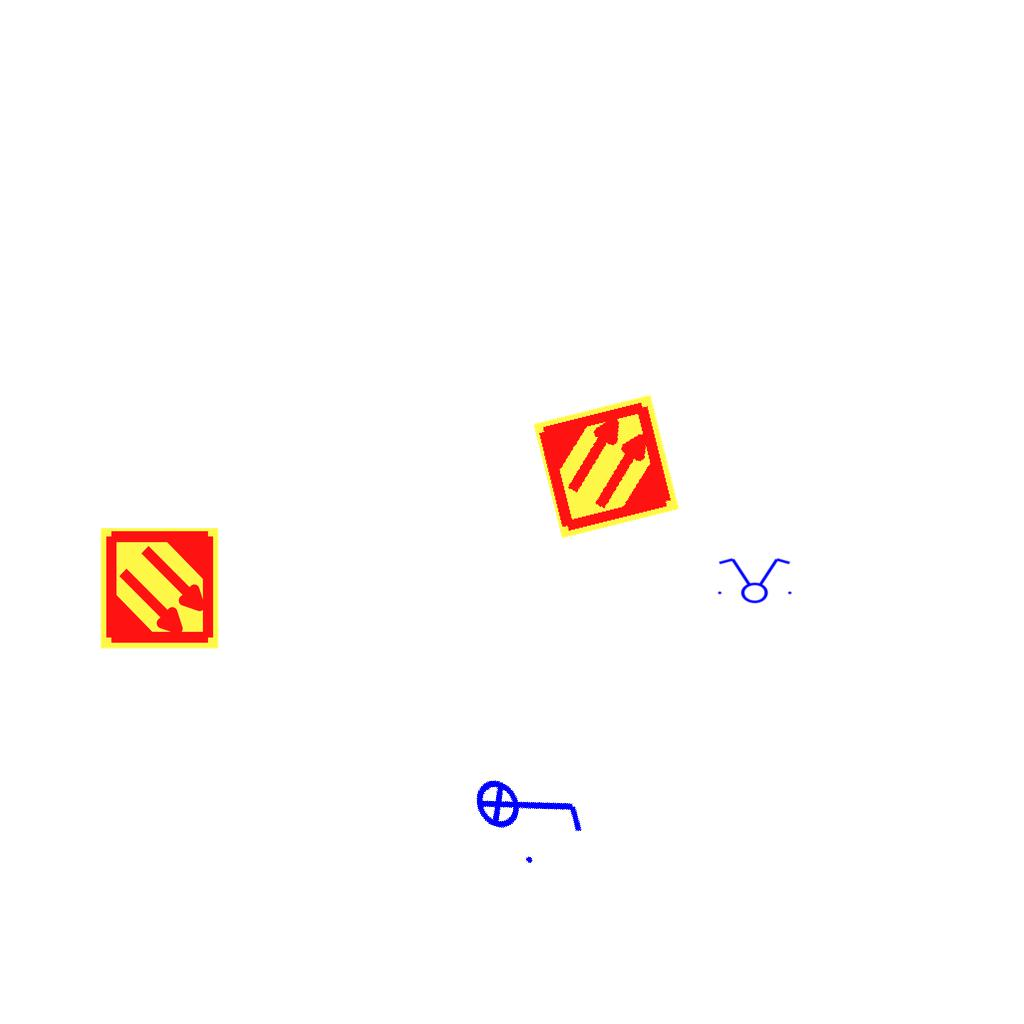ASR_Ansaugrauchmelder: (530, 390, 683, 543), (97, 526, 222, 651)
Ausschalter_beleuchtet: (459, 733, 599, 879)
Serienschalter: (712, 556, 796, 604)
